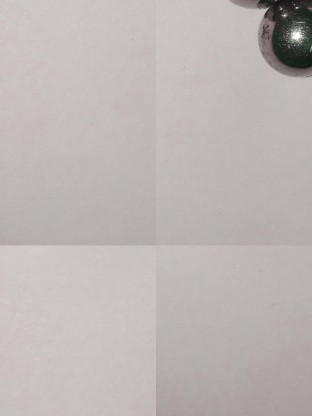ironball: (259, 0, 312, 76)
